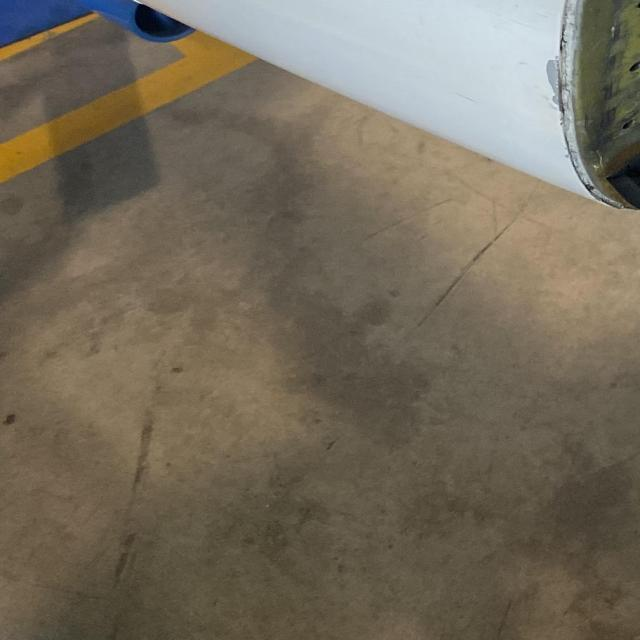Paint-off: (543, 59, 565, 117)
